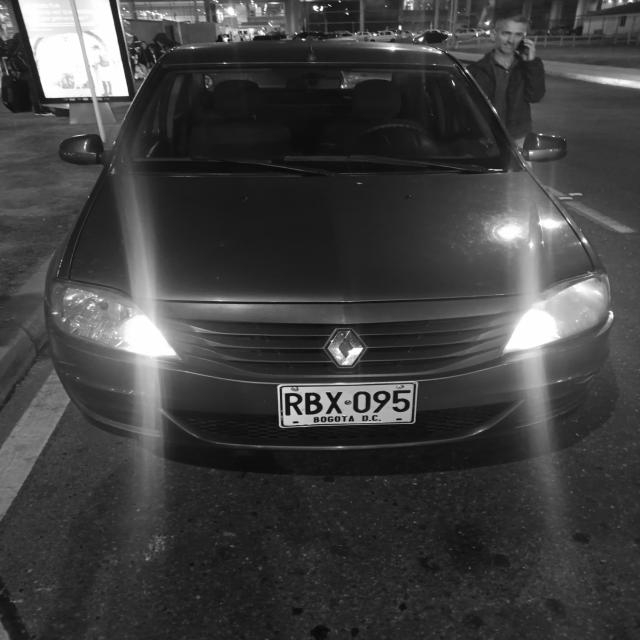plate: (277, 379, 421, 432)
